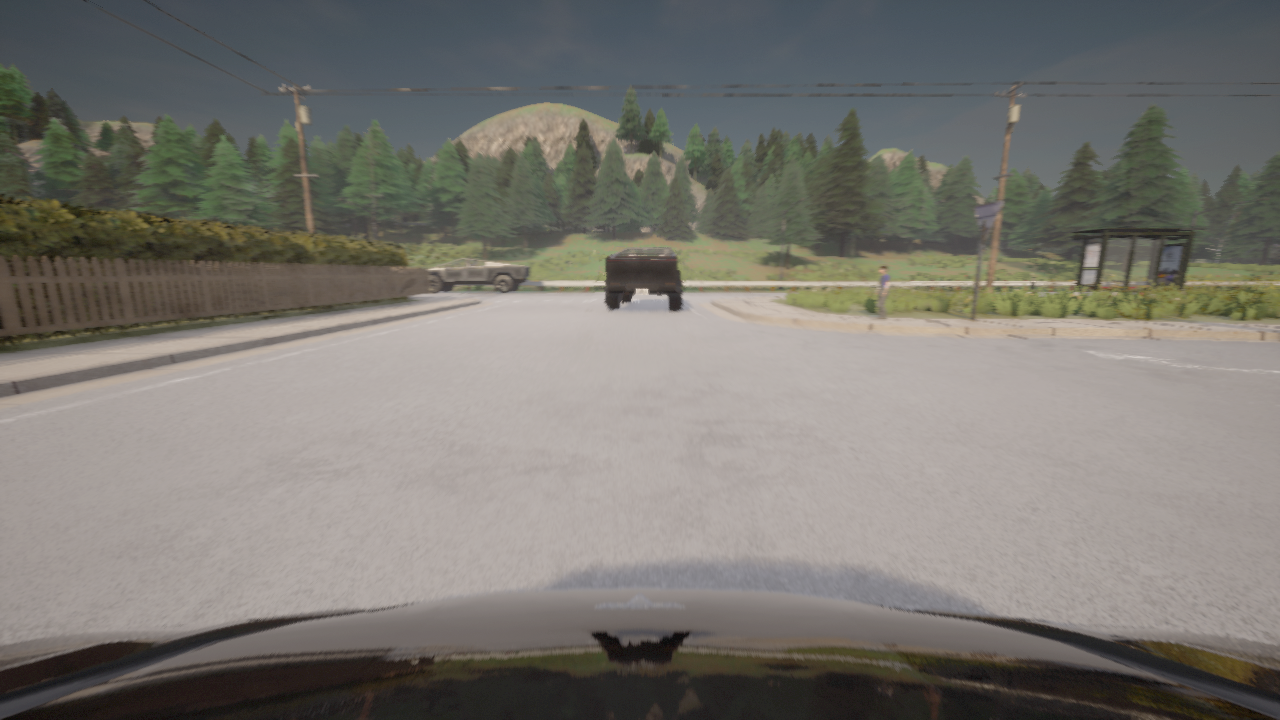cyclist: (0, 588, 1279, 719), (605, 248, 682, 310), (429, 258, 531, 293)
pedestrian: (875, 265, 889, 319)
